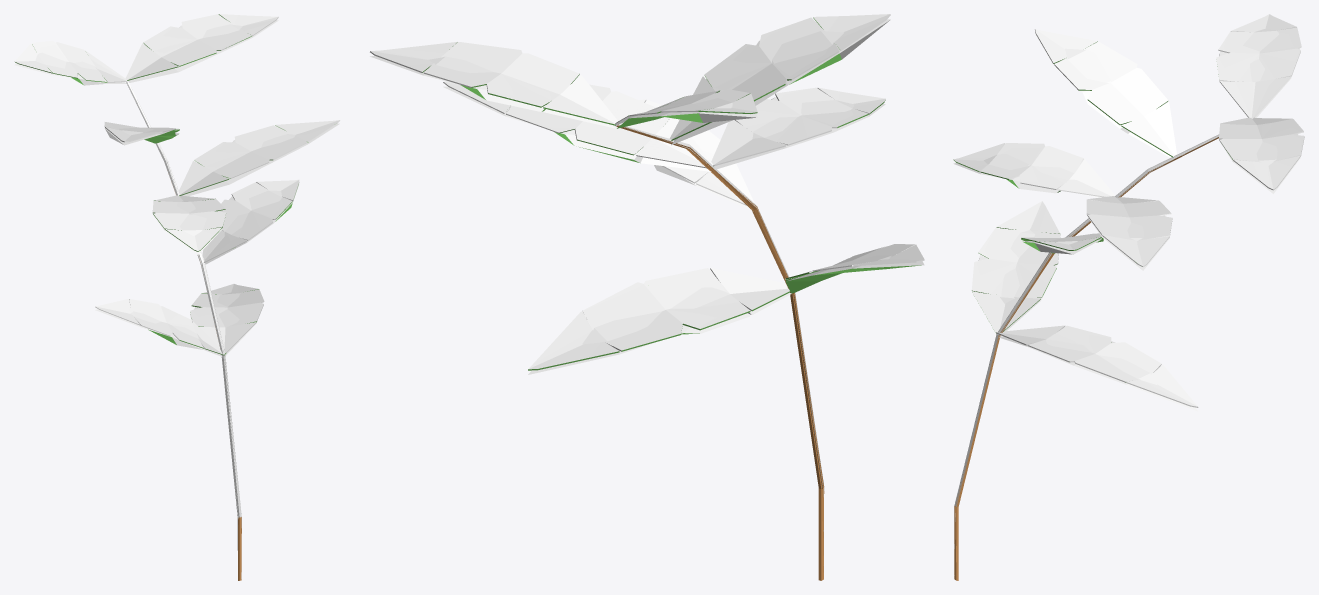
File: V4_Fern_1_Snowy.fbx
The picture shows the model from 3 angles, left to right: view 1: azimuth 30°, elevation 25°; view 2: azimuth 150°, elevation 25°; view 3: azimuth 270°, elevation 25°; orthographic projection. The views are drawn at different scales.
Visible parts, largest first — view 1: V4 Fern 1_LOD0_Snowy, V4 Fern 1_LOD1_Snowy, V4 Fern 1_LOD3_Snowy, V4 Fern 1_LOD2_Snowy; view 2: V4 Fern 1_LOD0_Snowy, V4 Fern 1_LOD1_Snowy, V4 Fern 1_LOD3_Snowy, V4 Fern 1_LOD2_Snowy; view 3: V4 Fern 1_LOD0_Snowy, V4 Fern 1_LOD1_Snowy, V4 Fern 1_LOD3_Snowy, V4 Fern 1_LOD2_Snowy.
Boxes of the visible parts, box(x1,y1,x2,y2) form: V4 Fern 1_LOD0_Snowy: box(14, 14, 340, 580); V4 Fern 1_LOD1_Snowy: box(16, 14, 339, 576); V4 Fern 1_LOD3_Snowy: box(14, 20, 339, 524); V4 Fern 1_LOD2_Snowy: box(56, 19, 336, 579); V4 Fern 1_LOD0_Snowy: box(370, 14, 924, 580); V4 Fern 1_LOD1_Snowy: box(370, 14, 923, 579); V4 Fern 1_LOD3_Snowy: box(370, 19, 924, 493); V4 Fern 1_LOD2_Snowy: box(379, 42, 914, 572); V4 Fern 1_LOD0_Snowy: box(953, 14, 1304, 580); V4 Fern 1_LOD1_Snowy: box(953, 16, 1303, 580); V4 Fern 1_LOD3_Snowy: box(953, 28, 1300, 411); V4 Fern 1_LOD2_Snowy: box(954, 42, 1300, 580).
Bounding box in the file's own units: 51.2 × 75.47 × 46.38.
